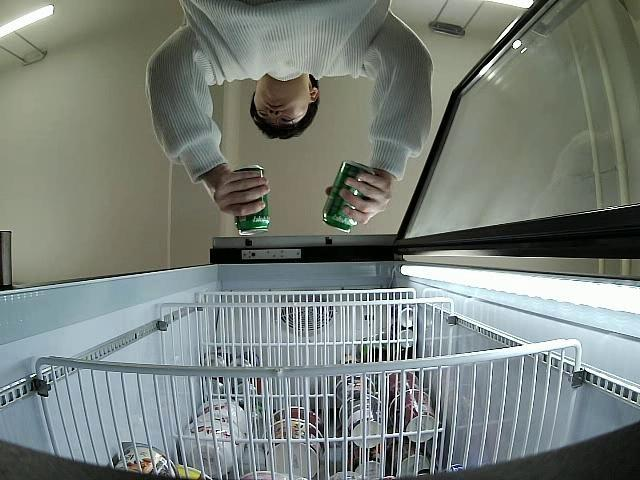12_chilsungCider: (322, 159, 373, 235), (233, 165, 271, 236)
